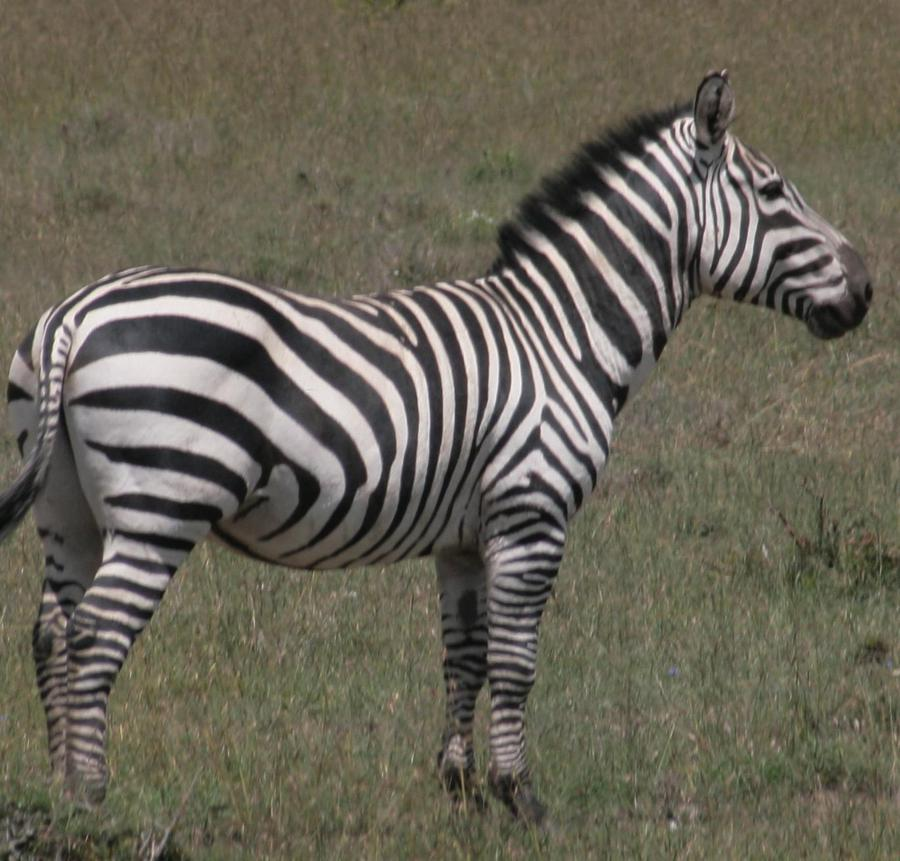zebra_plains: (53, 226, 616, 606)
